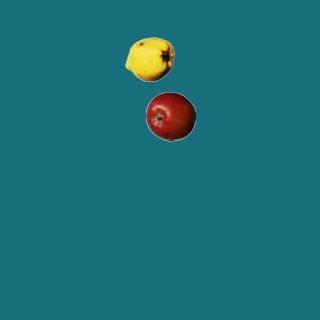Apple Braeburn: (145, 91, 195, 141)
Quince: (124, 34, 174, 84)
